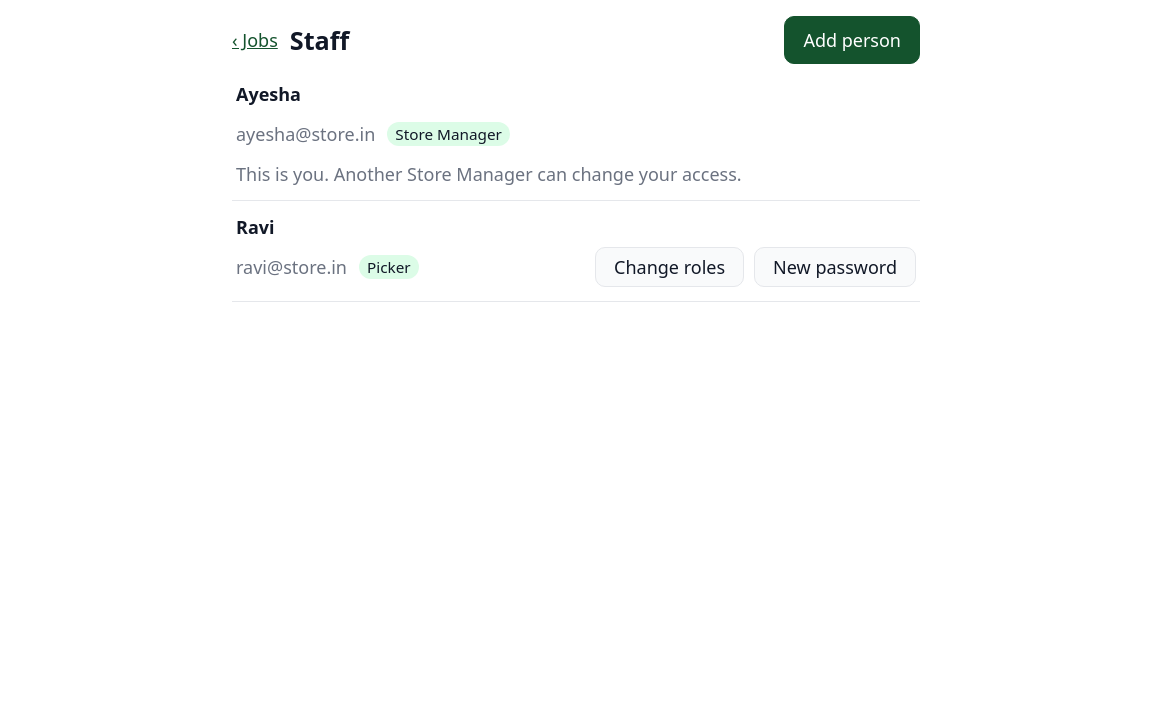
it: staff screen › changes roles, resending with the same key until the choice changes
Click the button "Change roles". click: (670, 267)
box: [595,247,744,287]
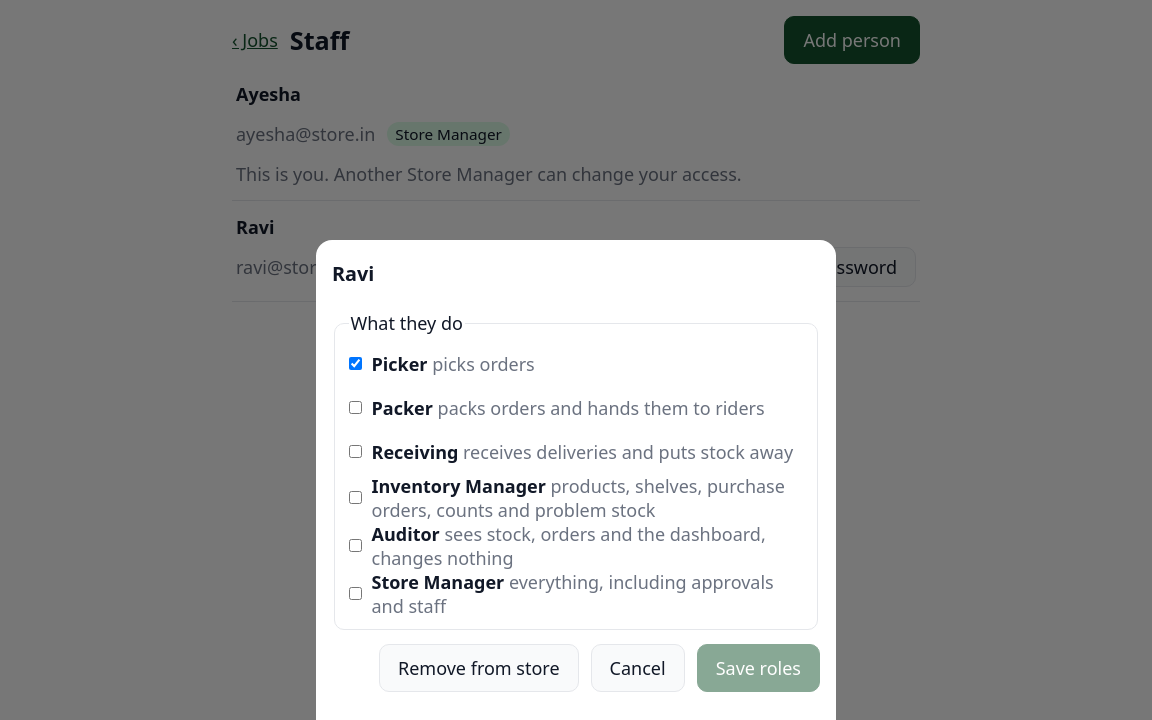
Expected: the button "Save roles" is disabled, [697,644,820,692]
Click the checkbox labelled "Packer packs orders and hands them to riders". click: (355, 408)
box: [348,401,362,414]
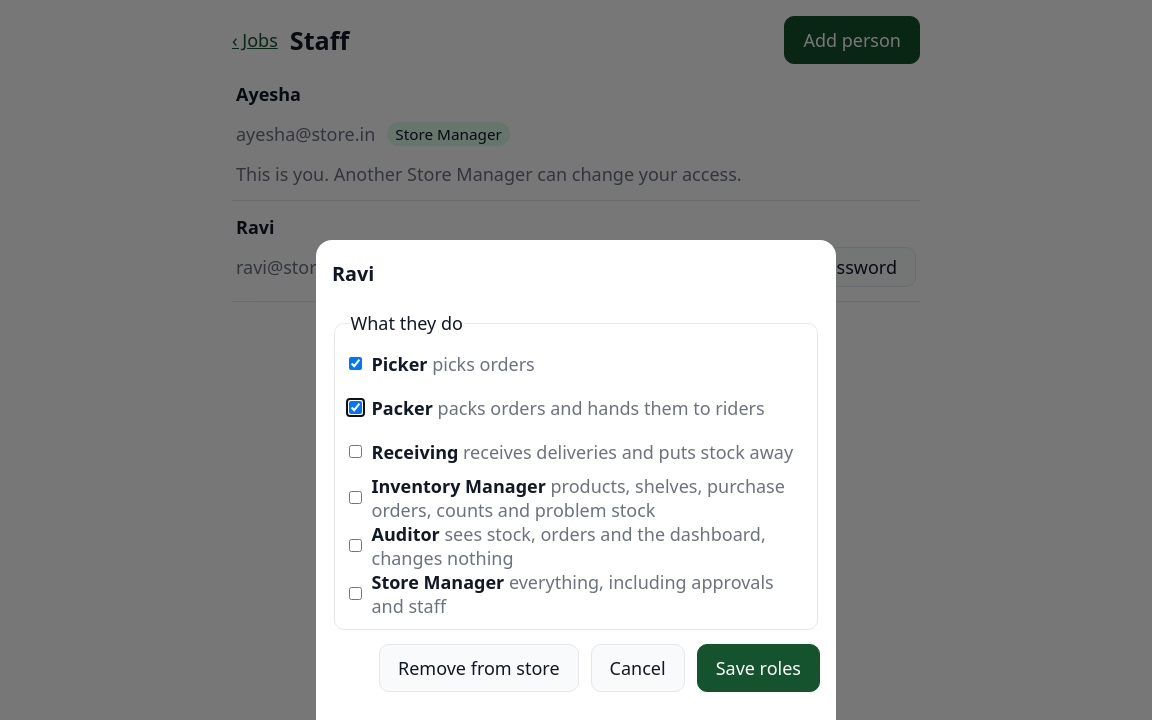
Click the button "Save roles". click: (758, 668)
box: [697,644,820,692]
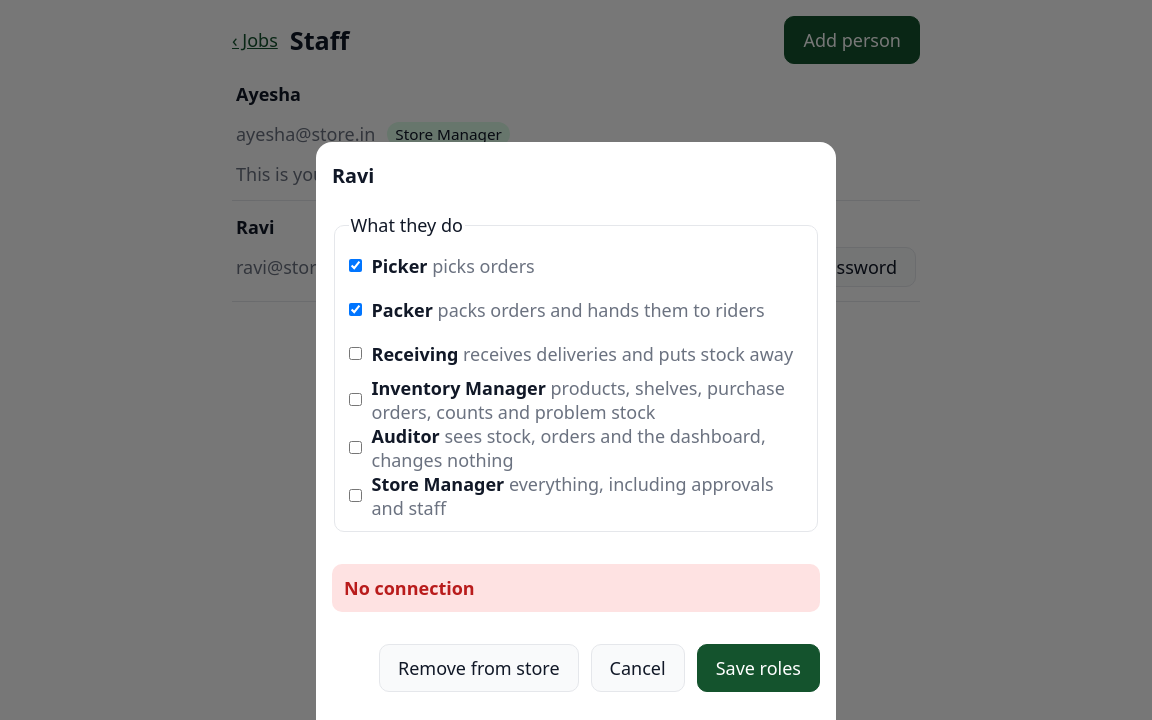
Expected: the message reads "No connection", [344,576,475,600]
Click the button "Save roles". click: (758, 668)
box: [697,644,820,692]
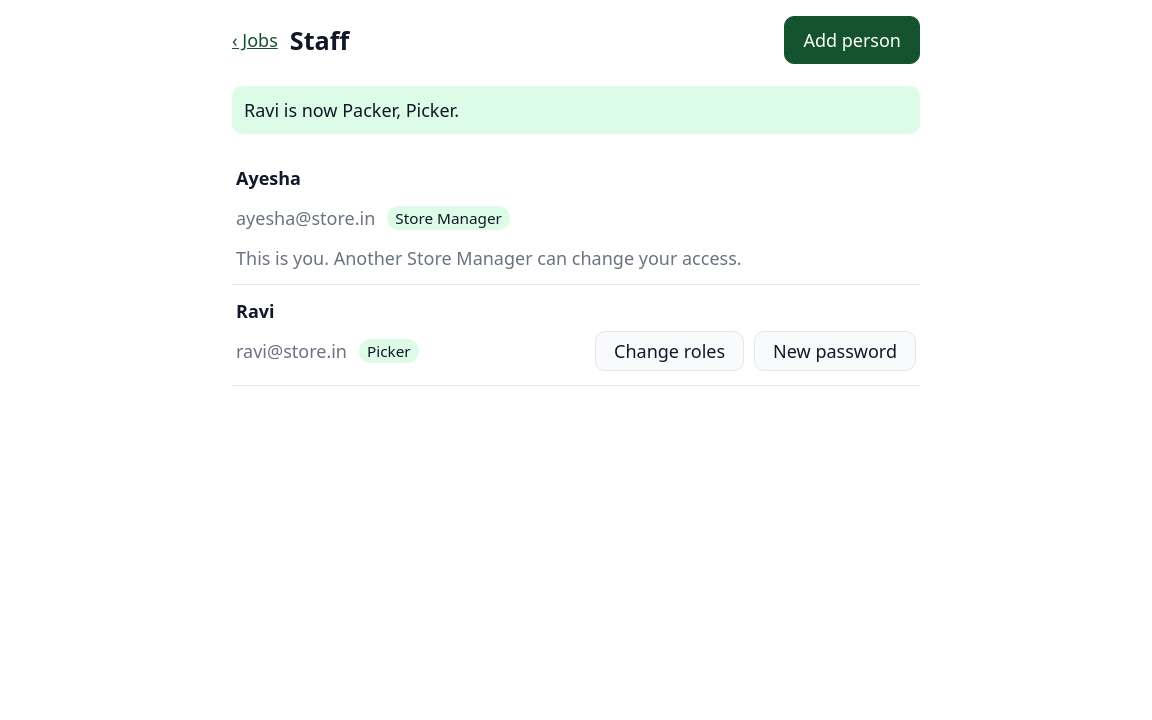
Expected: the message reads "Ravi is now Packer, Picker.", [244,98,459,122]
